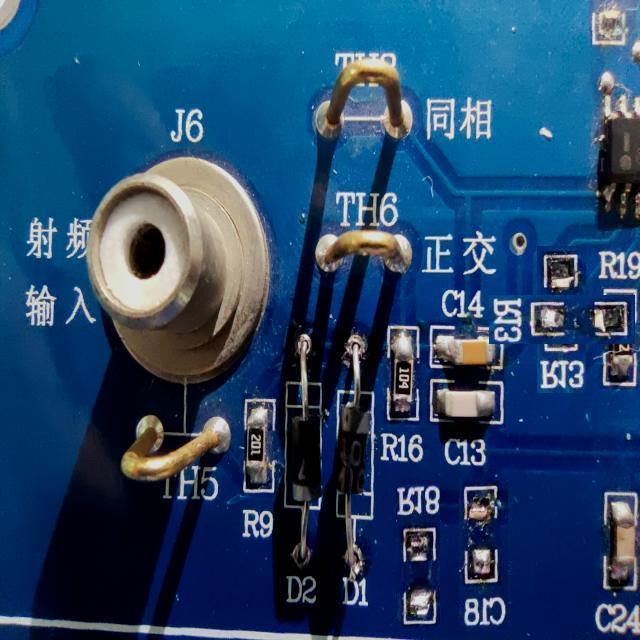miss_welding: (512, 270, 610, 368), (460, 477, 510, 630), (396, 480, 440, 628)
